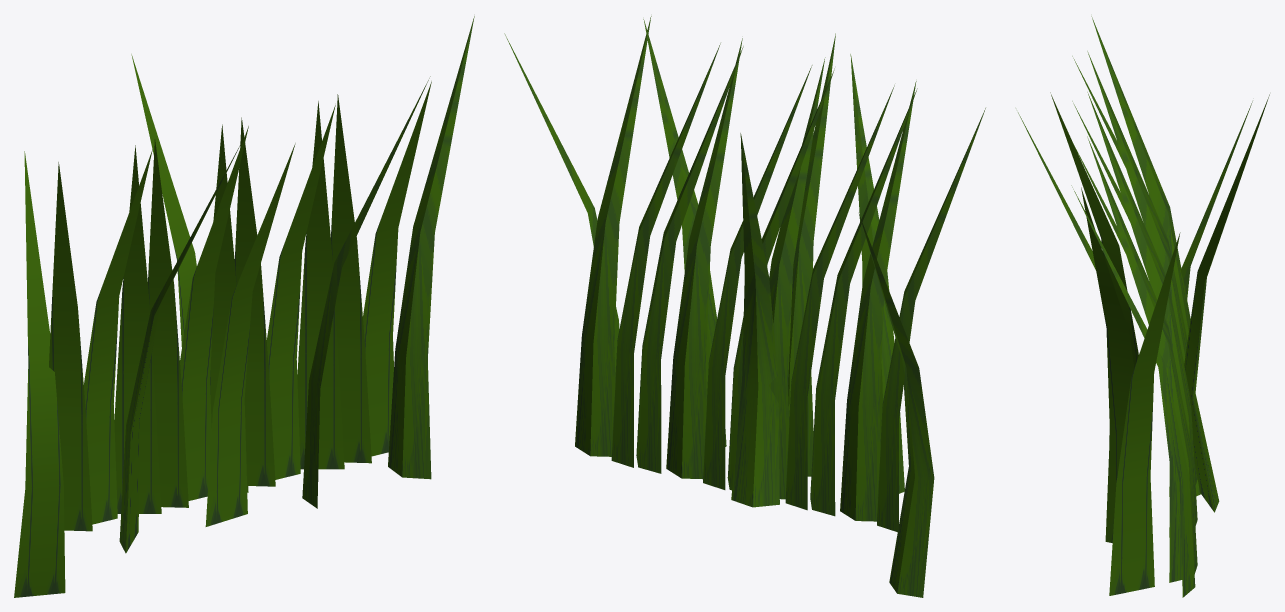
File: GrassWall002.obj
The picture shows the model from 3 angles, left to right: view 1: azimuth 30°, elevation 25°; view 2: azimuth 150°, elevation 25°; view 3: azimuth 270°, elevation 25°; orthographic projection. The views are drawn at different scales.
Parts seen in each view (by area): view 1: GrassWallModule; view 2: GrassWallModule; view 3: GrassWallModule.
Boxes of the visible parts, bbox=[...] form: GrassWallModule: bbox=[14, 16, 474, 597]; GrassWallModule: bbox=[504, 16, 985, 597]; GrassWallModule: bbox=[1018, 16, 1269, 597].
Size of the model in its own units: 29.58 by 29.35 by 14.7.
